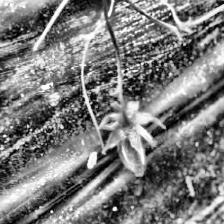Gray Mold: (98, 100, 167, 177)
